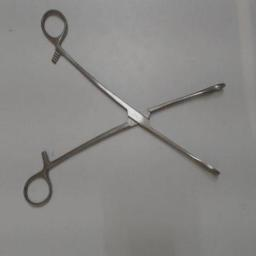Sponge Forceps: (20, 6, 230, 212)
